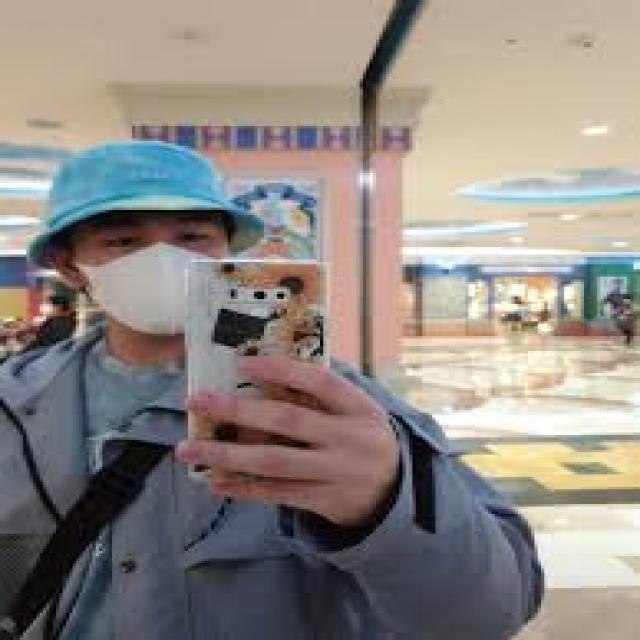Phone: (188, 256, 334, 470)
